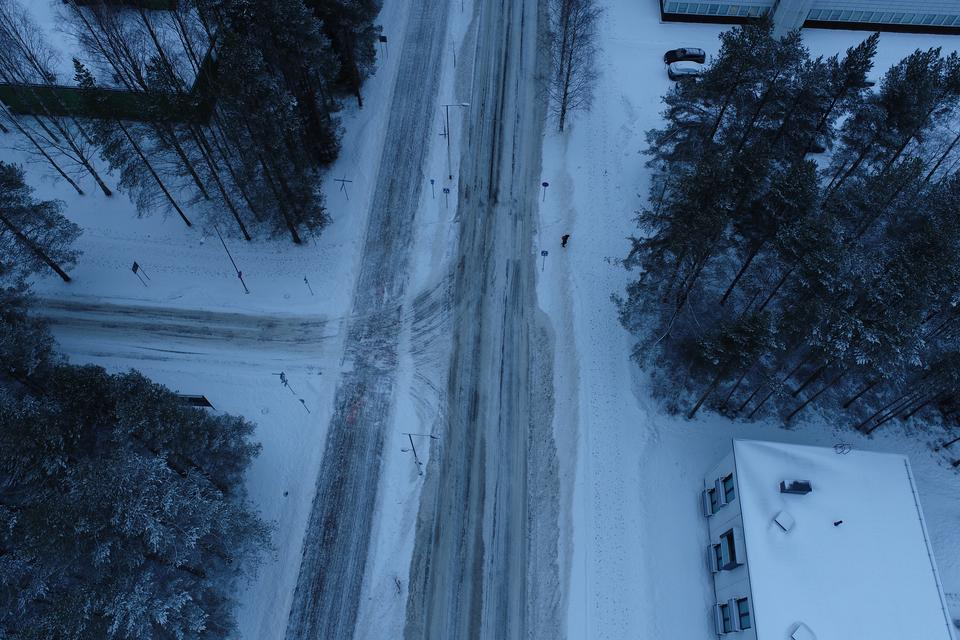intersection: (263, 257, 572, 424)
